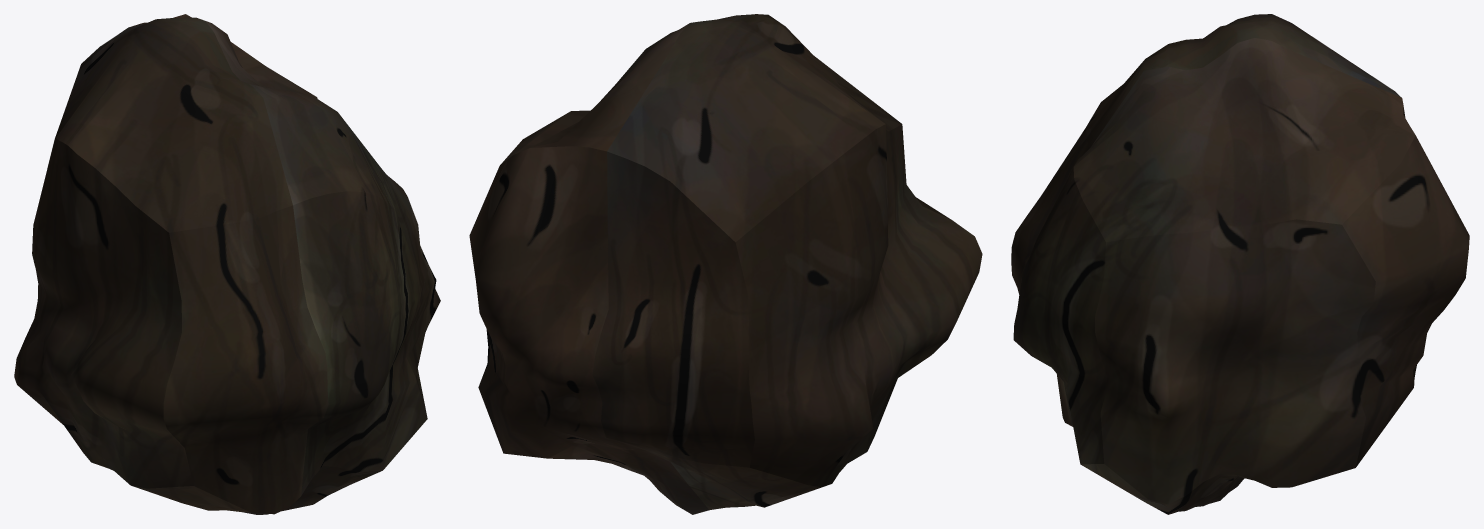
The model's file is Rock.FBX.
3 views of the same model, side by side, from view 1: azimuth 30°, elevation 25°; view 2: azimuth 150°, elevation 25°; view 3: azimuth 270°, elevation 25° (orthographic). The views are drawn at different scales.
Visible parts, largest first — view 1: PRO_Rock; view 2: PRO_Rock; view 3: PRO_Rock.
Boxes of the visible parts, x1,y1,x2,y2 form: PRO_Rock: (14, 14, 440, 514); PRO_Rock: (469, 14, 982, 514); PRO_Rock: (1011, 14, 1469, 514).
Bounding box in the file's own units: 47.69 × 57.59 × 52.4.
1 material, 1 textured.
